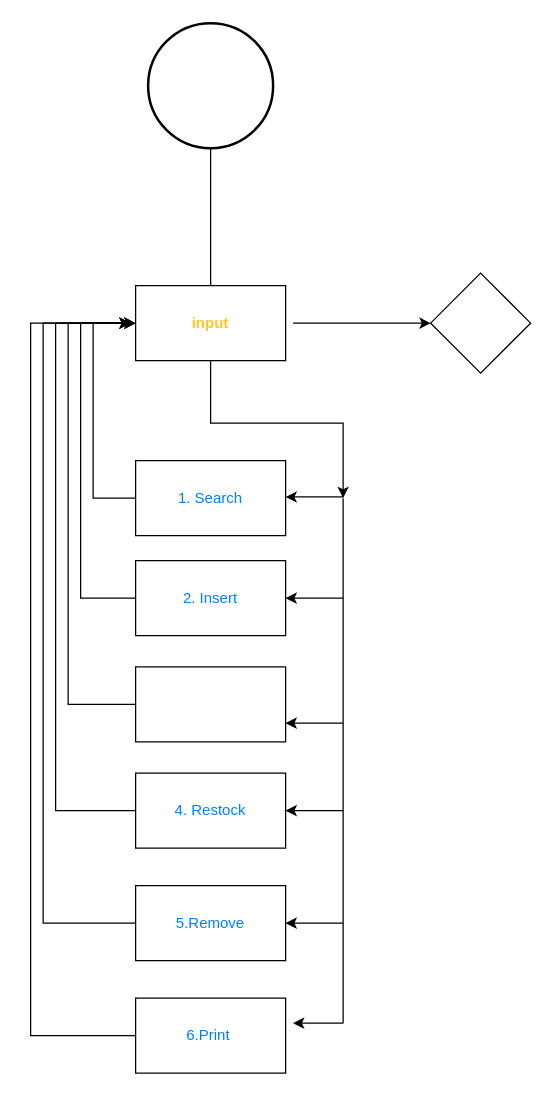
This 553x1095 diagram has some shape labels left out. Here are the shapes that lost their labels. From the top down, the box of each, then its label:
(146, 21, 274, 149): Run
(429, 272, 531, 373): 0. Exit
(134, 666, 286, 742): 3. Update
